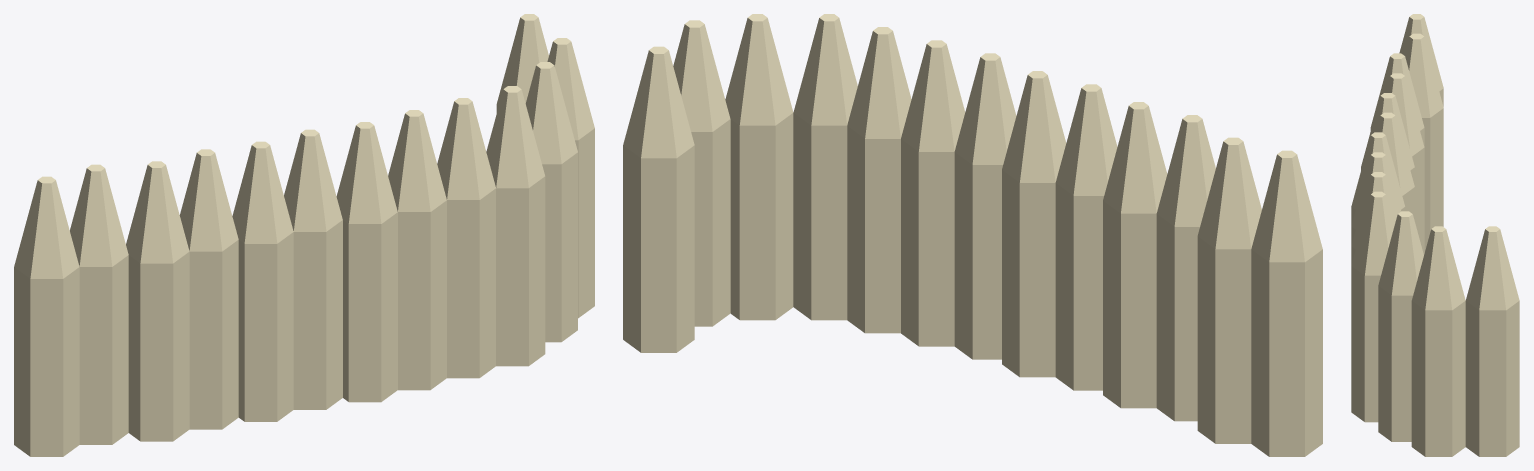
File: AmmoChain.fbx
3 renders of one model, left to right at view 1: azimuth 30°, elevation 25°; view 2: azimuth 150°, elevation 25°; view 3: azimuth 270°, elevation 25°, orthographic. The views are drawn at different scales.
Parts seen in each view (by area): view 1: AmmoChain; view 2: AmmoChain; view 3: AmmoChain.
Boxes of the visible parts, x1,y1,x2,y2 form: AmmoChain: (14,14,594,456); AmmoChain: (623,14,1322,456); AmmoChain: (1351,14,1519,456).
Bounding box in the file's own units: 0.445 × 0.1949 × 0.1364.
